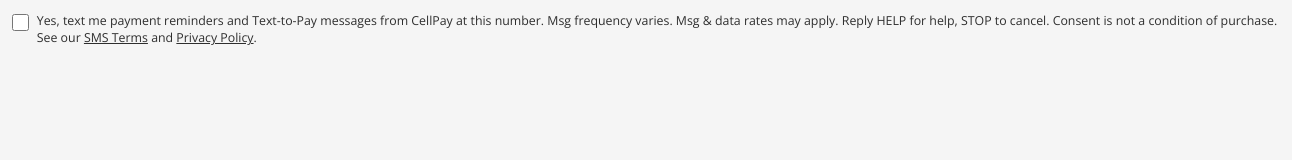
Test: SMS-34332-1020 consent › starts unchecked and changes only through explicit checkbox input
This screenshot has width=1292, height=160.
Click the checkbox with test id "sms-optin": [20, 23] box [12,14,28,31]
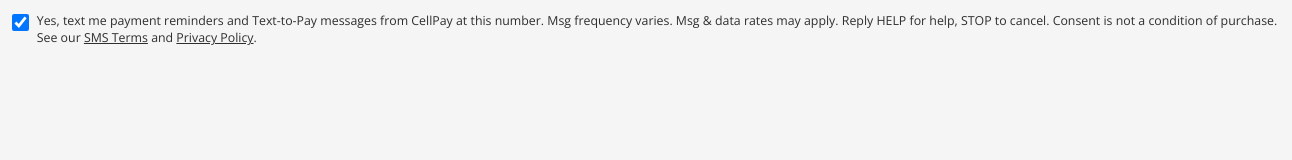
Result: the checkbox with test id "sms-optin" is checked
Click the checkbox with test id "sms-optin": [20, 23] box [12,14,28,31]
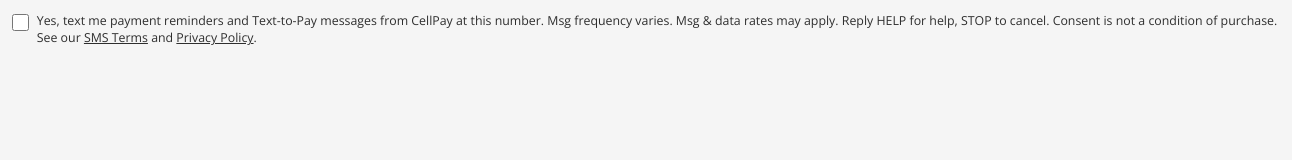
Result: the checkbox with test id "sms-optin" is not checked at [12,14,28,31]
